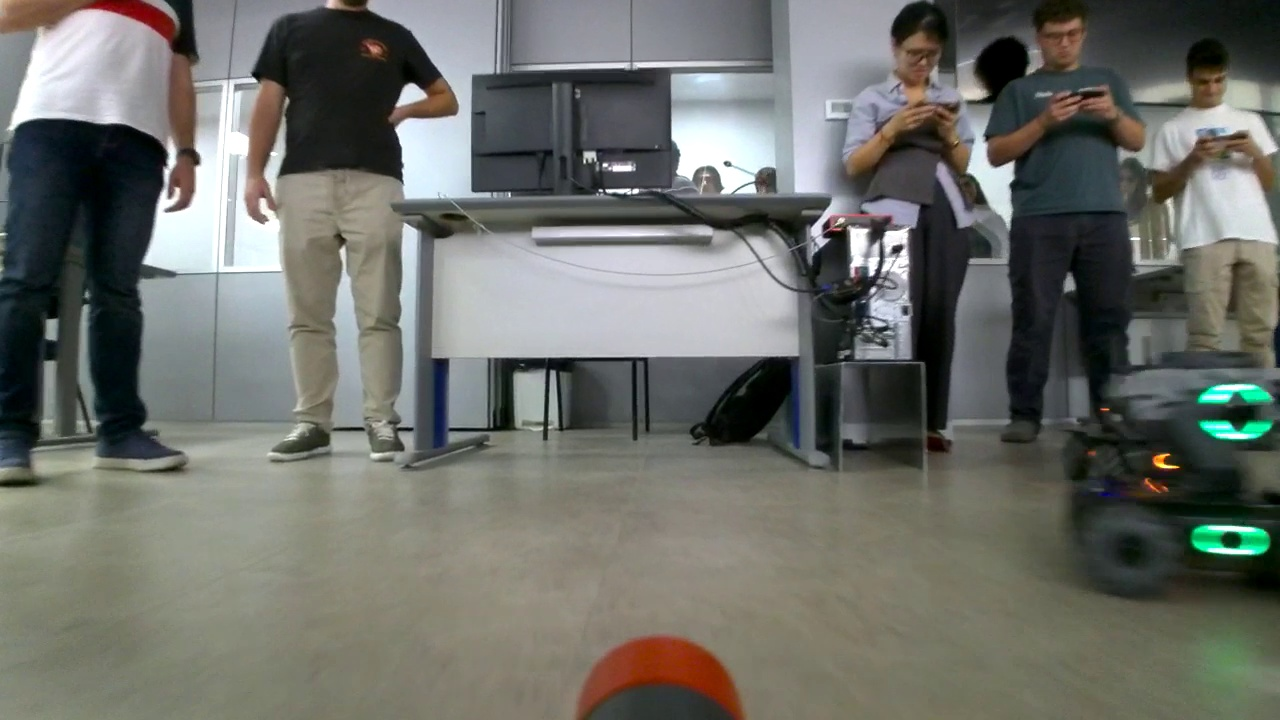robot: (1081, 347, 1280, 590), (1061, 352, 1221, 488)
